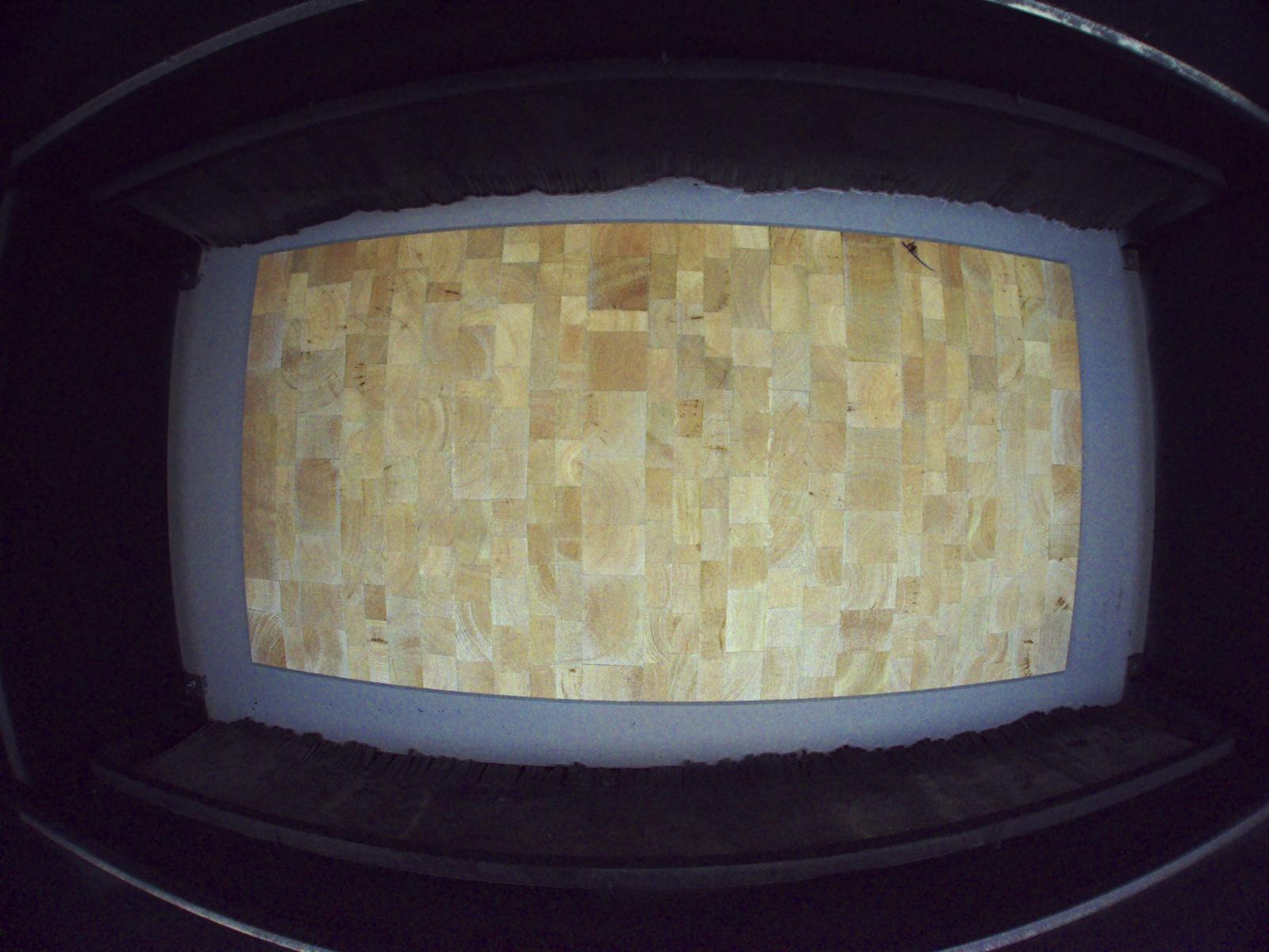nudillo: (905, 238, 919, 255)
